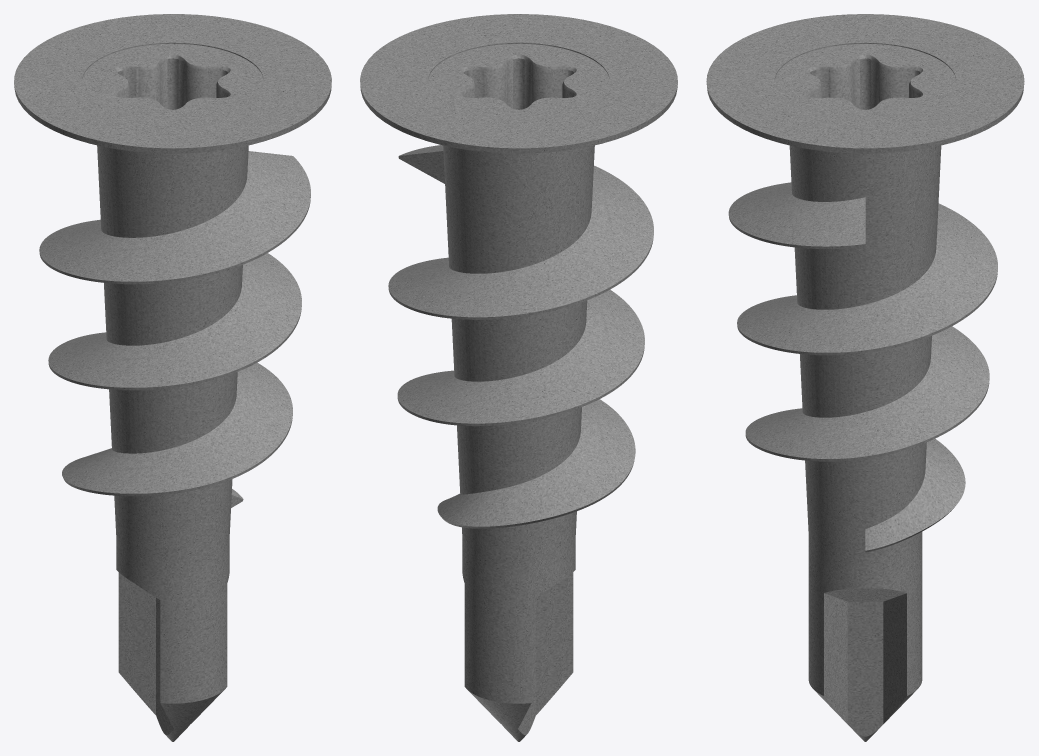
Rendered from shoper-dpn5.glb.
3 renders of one model, left to right at view 1: azimuth 30°, elevation 25°; view 2: azimuth 150°, elevation 25°; view 3: azimuth 270°, elevation 25°, orthographic.
Visible parts, largest first — view 1: A_MAIN_BODY; view 2: A_MAIN_BODY; view 3: A_MAIN_BODY.
Part boxes in pixels (x1,y1,x2,y2): A_MAIN_BODY: (14, 14, 331, 741); A_MAIN_BODY: (360, 14, 677, 741); A_MAIN_BODY: (706, 14, 1024, 741).
Size of the model in its own units: 0.014 by 0.0321 by 0.014.
1 material, 1 textured.
